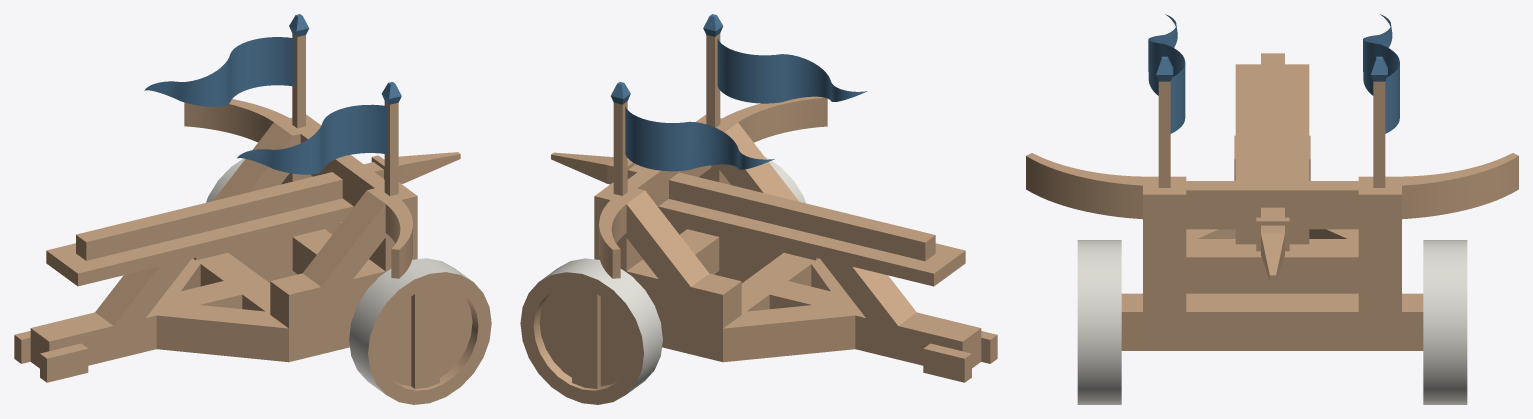
File: siegeBallista.fbx
3 views of the same model, side by side, from view 1: azimuth 30°, elevation 25°; view 2: azimuth 150°, elevation 25°; view 3: azimuth 270°, elevation 25° (orthographic). The views are drawn at different scales.
Visible parts, largest first — view 1: body, wheelFrontRight 5, arrow 1, flag 10, flag 11, wheelFrontLeft 5; view 2: body, wheelFrontLeft 5, arrow 1, flag 11, flag 10, wheelFrontRight 5; view 3: body, wheelFrontLeft 5, wheelFrontRight 5, arrow 1, flag 10, flag 11.
Boxes of the visible parts, x1=… form: body: x1=14, y1=99, x2=417, y2=382; wheelFrontRight 5: x1=349, y1=258, x2=491, y2=404; arrow 1: x1=76, y1=152, x2=460, y2=260; flag 10: x1=237, y1=82, x2=401, y2=195; flag 11: x1=144, y1=14, x2=309, y2=128; wheelFrontLeft 5: x1=206, y1=158, x2=341, y2=282; body: x1=594, y1=96, x2=997, y2=382; wheelFrontLeft 5: x1=520, y1=258, x2=662, y2=404; arrow 1: x1=551, y1=152, x2=935, y2=261; flag 11: x1=611, y1=82, x2=774, y2=195; flag 10: x1=703, y1=14, x2=867, y2=127; wheelFrontRight 5: x1=670, y1=157, x2=805, y2=282; body: x1=1026, y1=64, x2=1518, y2=350; wheelFrontLeft 5: x1=1423, y1=240, x2=1467, y2=404; wheelFrontRight 5: x1=1077, y1=240, x2=1121, y2=404; arrow 1: x1=1256, y1=53, x2=1289, y2=280; flag 10: x1=1148, y1=14, x2=1185, y2=187; flag 11: x1=1363, y1=14, x2=1399, y2=187.
Bounding box in the file's own units: 13.96 × 9.1 × 11.98.
